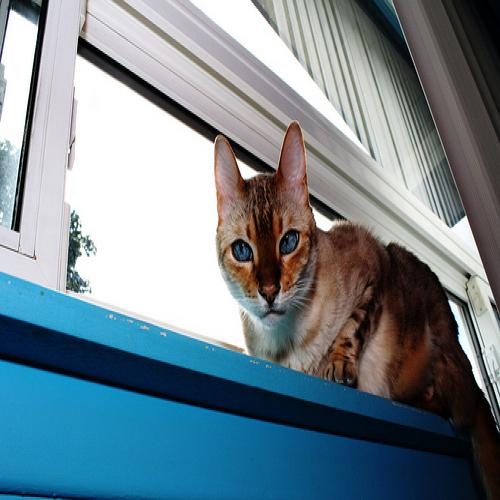bengal: (207, 119, 322, 337)
